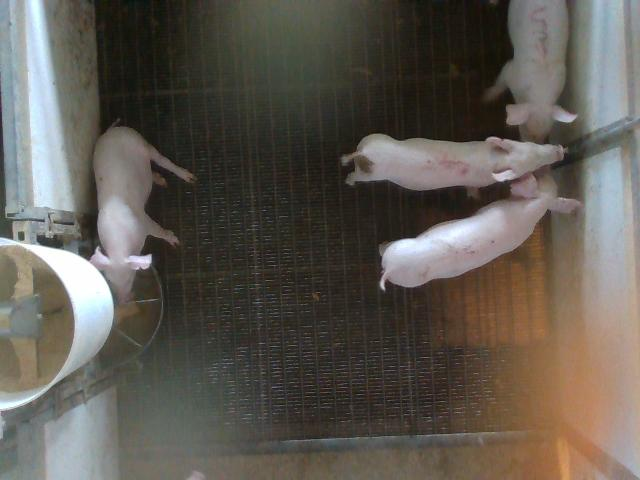pig-3: (484, 0, 576, 142)
pig-5: (341, 134, 564, 190)
